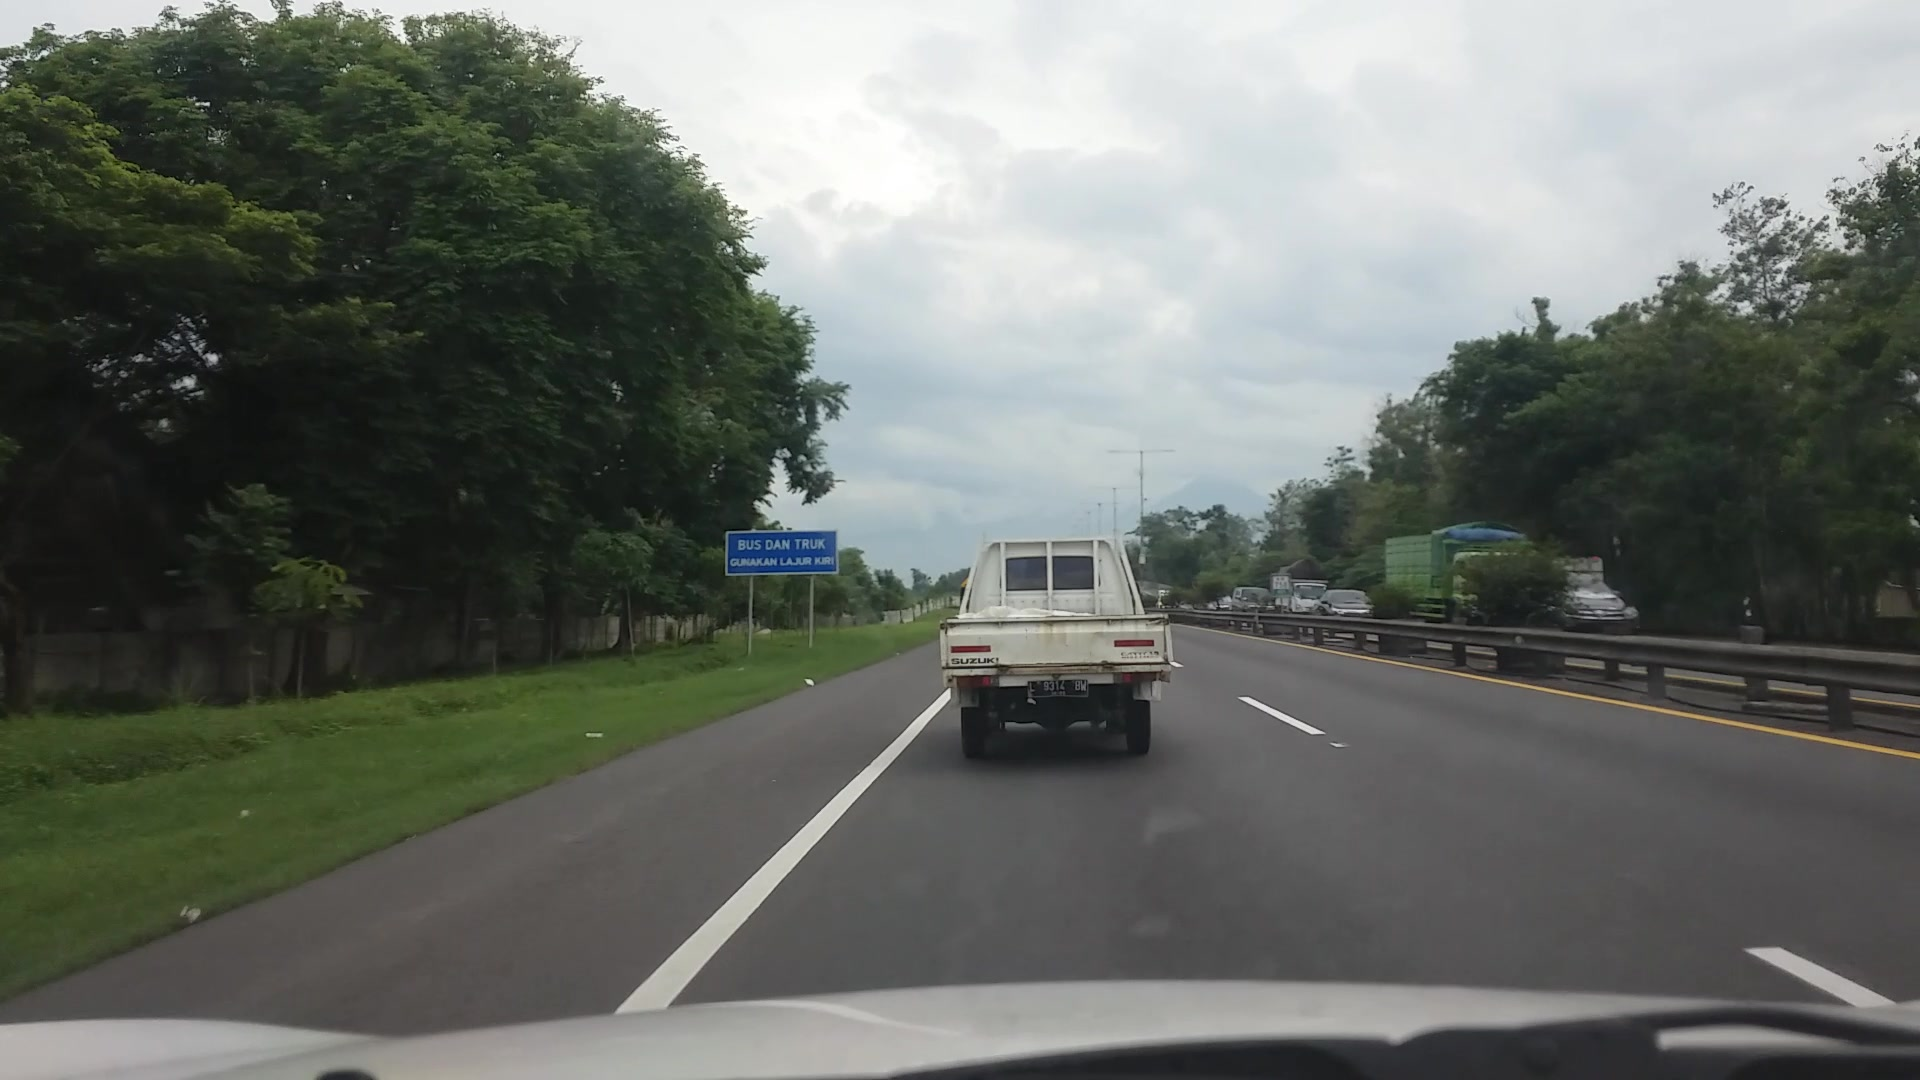plate_positive: (1027, 679, 1088, 698)
